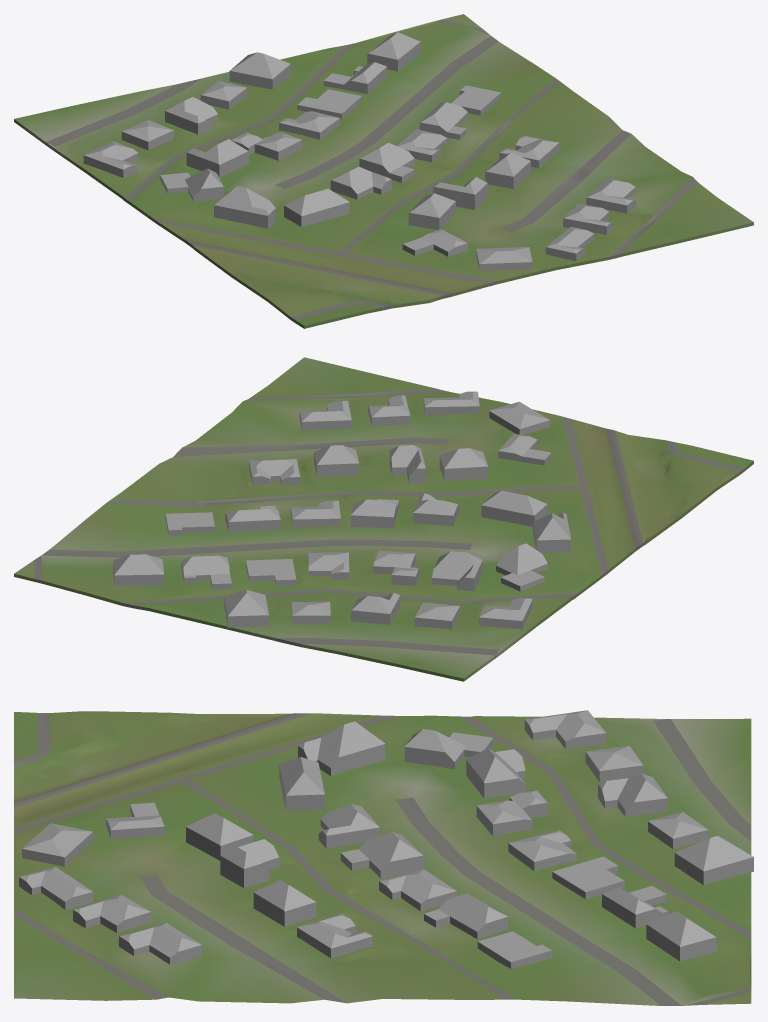
3 renders of one model, top to bottom at view 1: azimuth 30°, elevation 25°; view 2: azimuth 150°, elevation 25°; view 3: azimuth 270°, elevation 25°, orthographic. The views are drawn at different scales.
Visible parts, largest first — view 1: D-3--2.L0:utd:matte, D-3--2.L0:utd:matte:flat; view 2: D-3--2.L0:utd:matte, D-3--2.L0:utd:matte:flat; view 3: D-3--2.L0:utd:matte, D-3--2.L0:utd:matte:flat.
Boxes of the visible parts, box(x1,y1,x2,y2) form: D-3--2.L0:utd:matte: box(14, 14, 753, 328); D-3--2.L0:utd:matte:flat: box(83, 32, 636, 270); D-3--2.L0:utd:matte: box(14, 357, 753, 681); D-3--2.L0:utd:matte:flat: box(113, 391, 571, 629); D-3--2.L0:utd:matte: box(14, 711, 751, 1005); D-3--2.L0:utd:matte:flat: box(19, 710, 753, 968).
Size of the model in its own units: 229 by 20.09 by 257.
